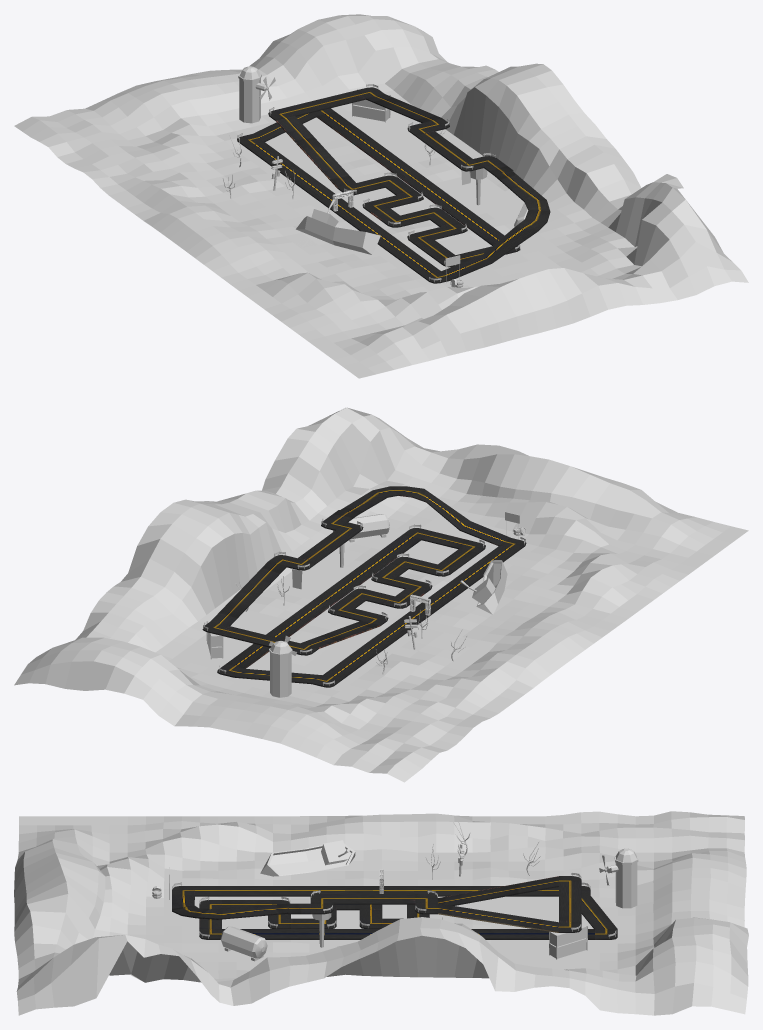
File: Racecar_Track.fbx
3 renders of one model, top to bottom at view 1: azimuth 30°, elevation 25°; view 2: azimuth 150°, elevation 25°; view 3: azimuth 270°, elevation 25°, orthographic. The views are drawn at different scales.
Parts seen in each view (by area): view 1: Terrain, RaceTrack.001, OldShip, TallStructure; view 2: Terrain, RaceTrack.001, OldShip, TallStructure, GasStorage; view 3: Terrain, RaceTrack.001, OldShip, TallStructure, GasStorage, Container, Container.001.
Part boxes in pixels (bbox=[...]): Terrain: bbox=[14, 14, 748, 378]; RaceTrack.001: bbox=[237, 87, 550, 283]; OldShip: bbox=[296, 199, 380, 254]; TallStructure: bbox=[238, 66, 261, 123]; Terrain: bbox=[14, 407, 748, 782]; RaceTrack.001: bbox=[202, 486, 526, 687]; OldShip: bbox=[460, 560, 507, 614]; TallStructure: bbox=[269, 641, 292, 697]; GasStorage: bbox=[348, 514, 389, 542]; Terrain: bbox=[14, 811, 748, 1015]; RaceTrack.001: bbox=[172, 876, 617, 939]; OldShip: bbox=[260, 840, 355, 876]; TallStructure: bbox=[614, 848, 638, 908]; GasStorage: bbox=[220, 926, 267, 961]; Container: bbox=[549, 938, 587, 959]; Container.001: bbox=[549, 923, 587, 947].
Size of the model in its own units: 4211 by 764 by 6433.
